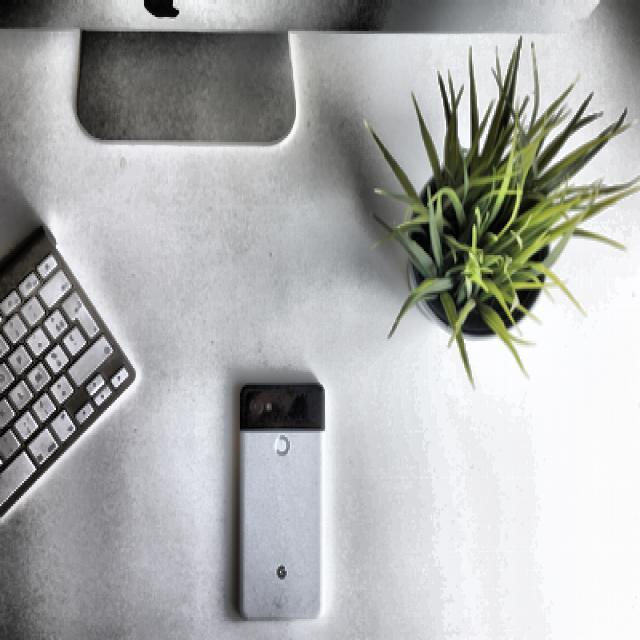Phone: (238, 380, 325, 620)
